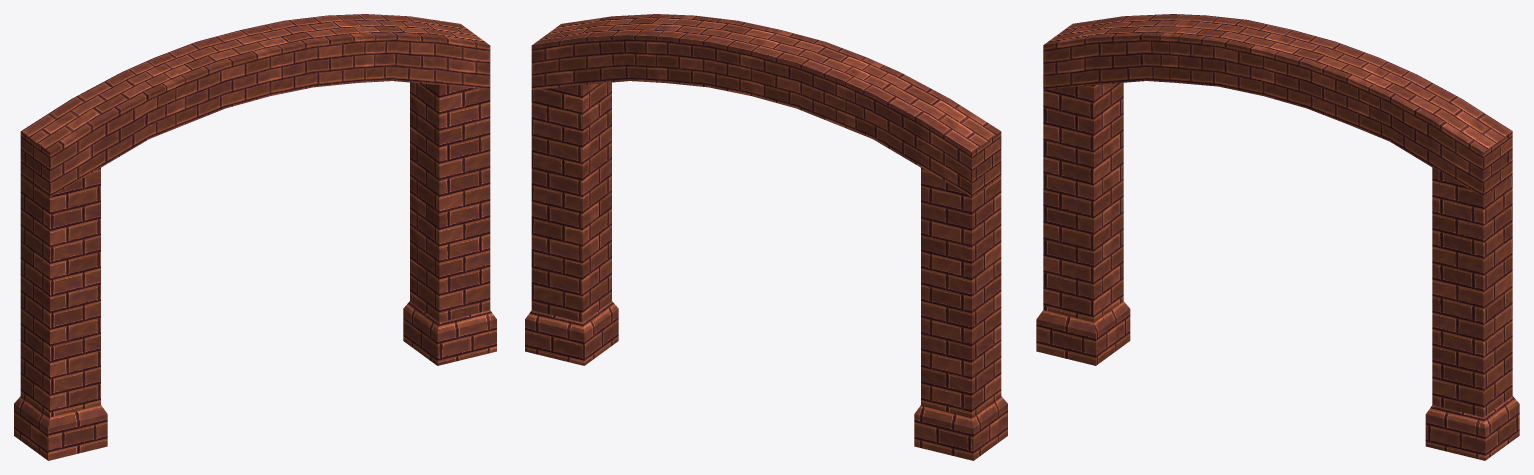
The model's file is SM_Arch.fbx.
3 views of the same model, side by side, from view 1: azimuth 30°, elevation 25°; view 2: azimuth 150°, elevation 25°; view 3: azimuth 330°, elevation 25° (orthographic).
Visible parts, largest first — view 1: pCube8; view 2: pCube8; view 3: pCube8.
Boxes of the visible parts, bbox=[...] form: pCube8: bbox=[14, 14, 496, 460]; pCube8: bbox=[525, 14, 1007, 460]; pCube8: bbox=[1036, 14, 1519, 460].
Size of the model in its own units: 410 by 308 by 54.35.
